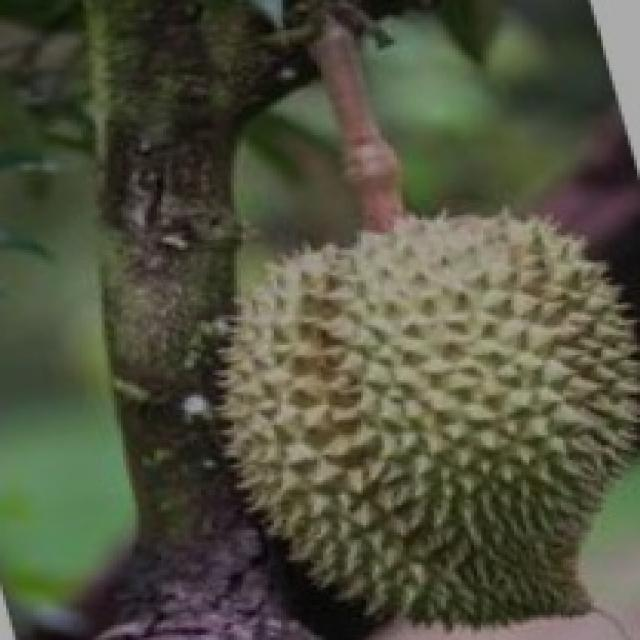fruit: (240, 195, 640, 635)
